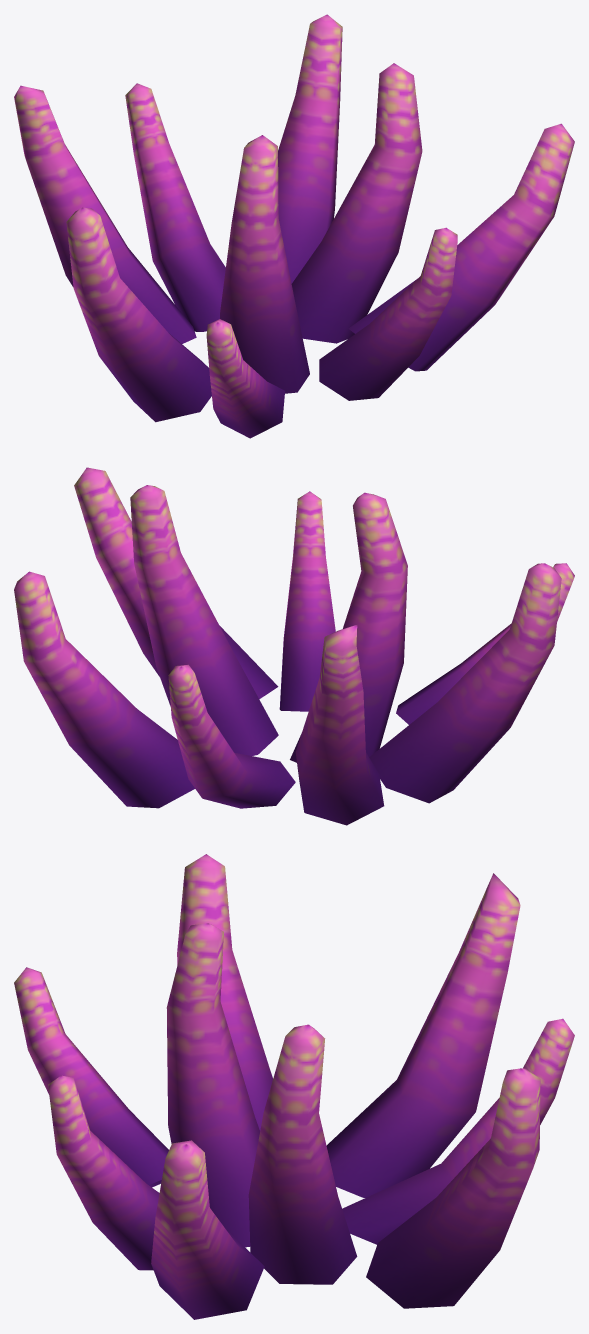
File: Coral_13d.FBX
3 renders of one model, top to bottom at view 1: azimuth 30°, elevation 25°; view 2: azimuth 150°, elevation 25°; view 3: azimuth 270°, elevation 25°, orthographic. The views are drawn at different scales.
Parts seen in each view (by area): view 1: Coral_13d; view 2: Coral_13d; view 3: Coral_13d.
Part boxes in pixels (<box>): Coral_13d: <box>14,14,574,438</box>; Coral_13d: <box>14,467,574,825</box>; Coral_13d: <box>14,854,574,1319</box>.
Size of the model in its own units: 21.87 by 11.46 by 18.86.
